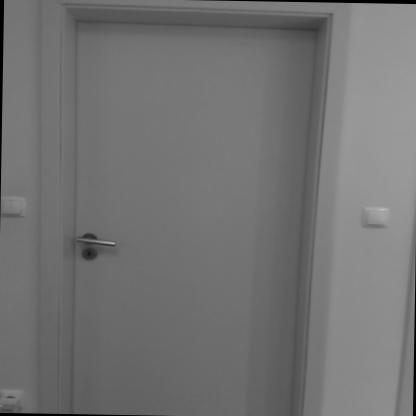closed: (25, 0, 350, 416)
